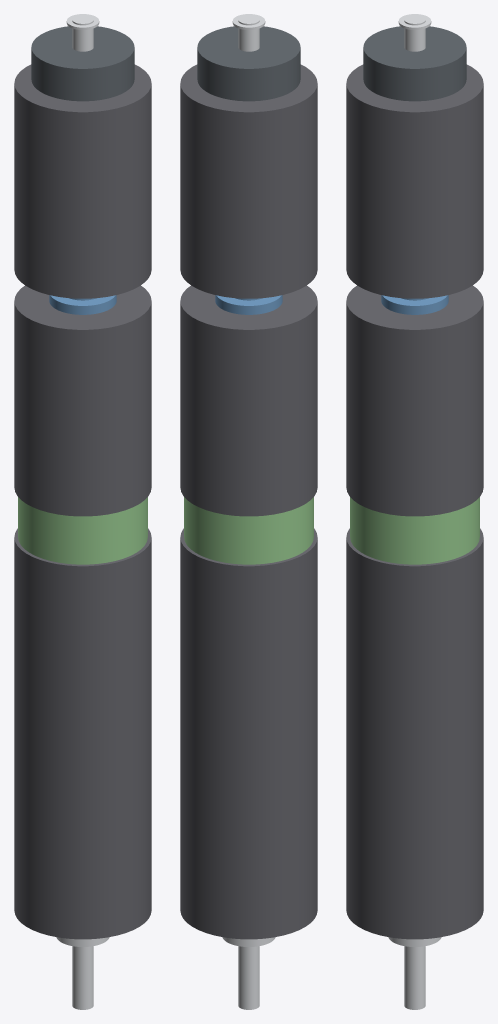
3 renders of one model, left to right at view 1: azimuth 90°, elevation 25°; view 2: azimuth 210°, elevation 25°; view 3: azimuth 270°, elevation 25°, orthographic.
Parts seen in each view (by area): view 1: part_2, part_4, part_1, part_0, part_3; view 2: part_2, part_4, part_1, part_0, part_3; view 3: part_2, part_4, part_1, part_0, part_3.
Boxes of the visible parts, left/top/right/bottom form: part_2: left=14, top=64, right=151, bottom=939; part_4: left=31, top=26, right=134, bottom=101; part_1: left=18, top=497, right=147, bottom=564; part_0: left=56, top=14, right=109, bottom=1009; part_3: left=49, top=295, right=116, bottom=314; part_2: left=180, top=64, right=317, bottom=939; part_4: left=197, top=26, right=300, bottom=101; part_1: left=184, top=497, right=313, bottom=564; part_0: left=222, top=14, right=275, bottom=1009; part_3: left=215, top=295, right=282, bottom=314; part_2: left=346, top=64, right=483, bottom=939; part_4: left=363, top=26, right=466, bottom=101; part_1: left=350, top=497, right=479, bottom=564; part_0: left=388, top=14, right=441, bottom=1009; part_3: left=381, top=295, right=448, bottom=314.
Size of the model in its own units: 0.0507 by 0.4027 by 0.0508.
